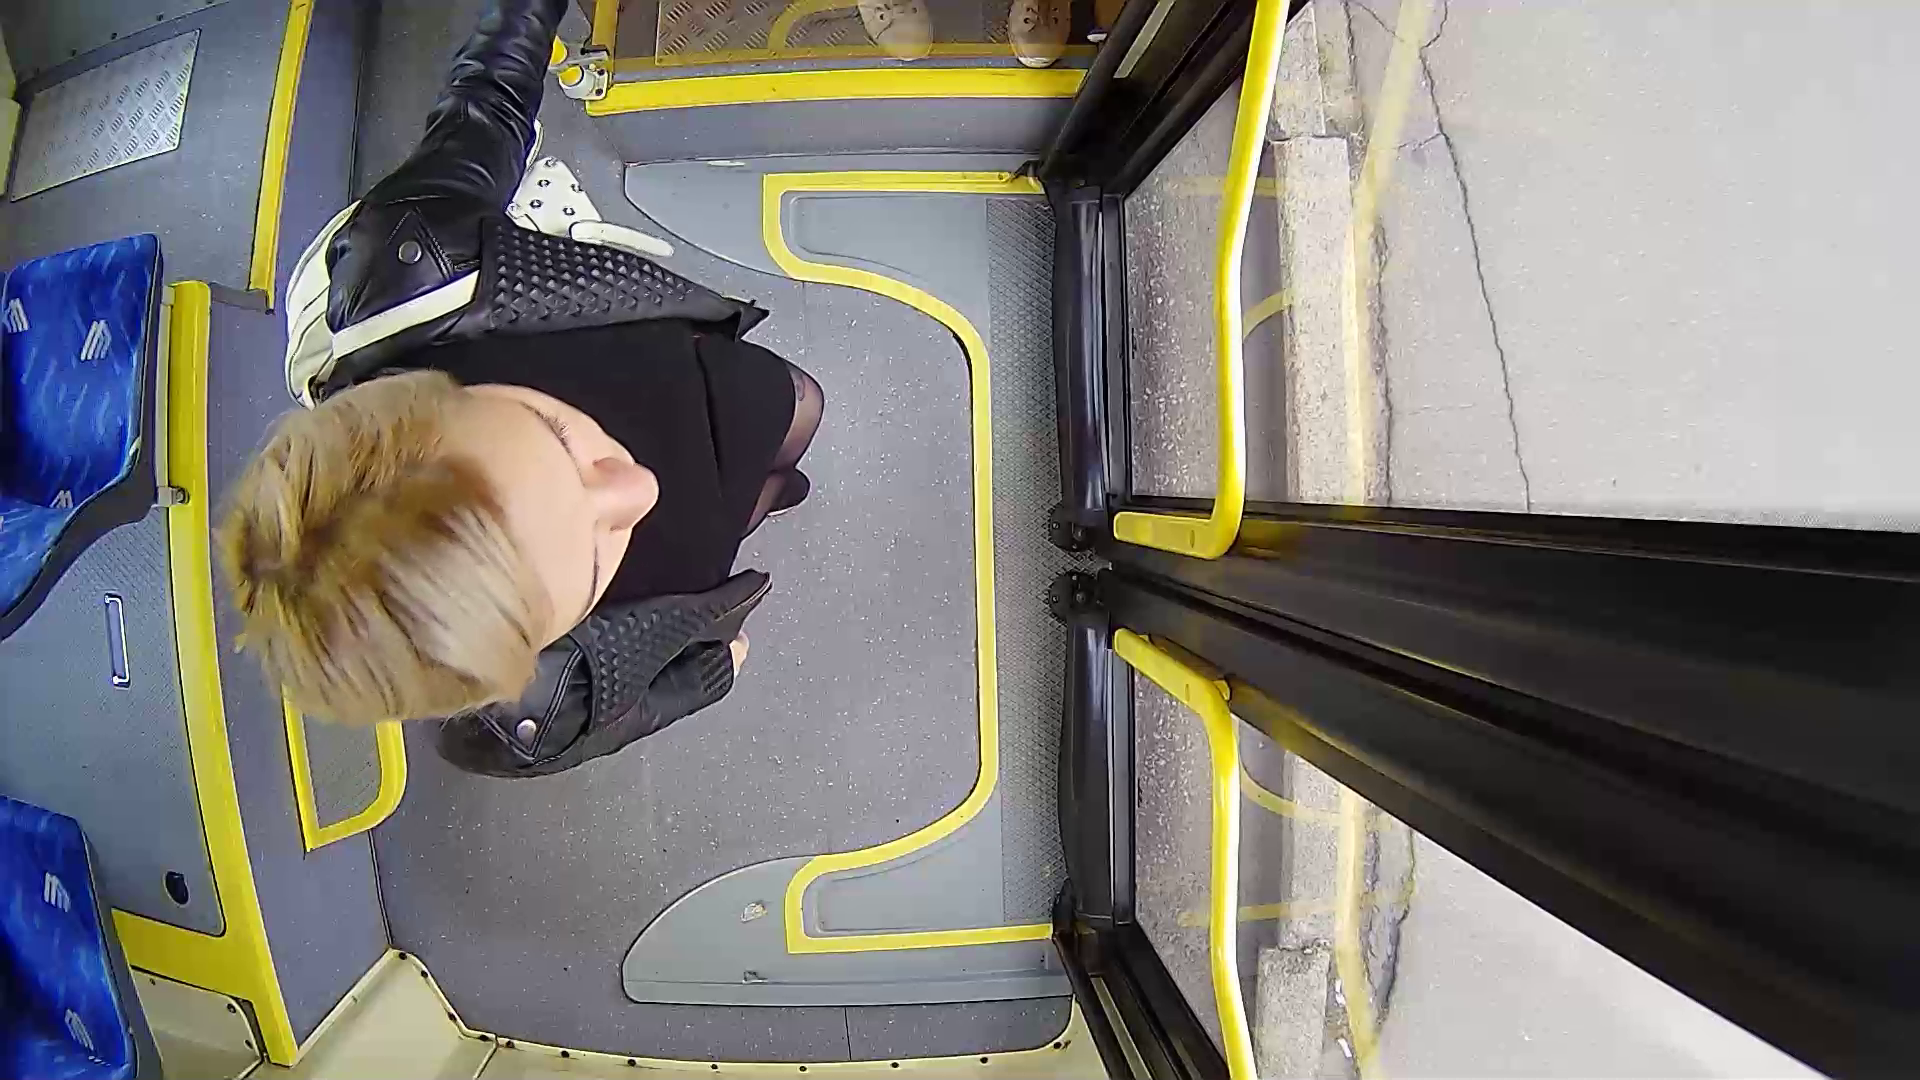person: (205, 126, 925, 772)
